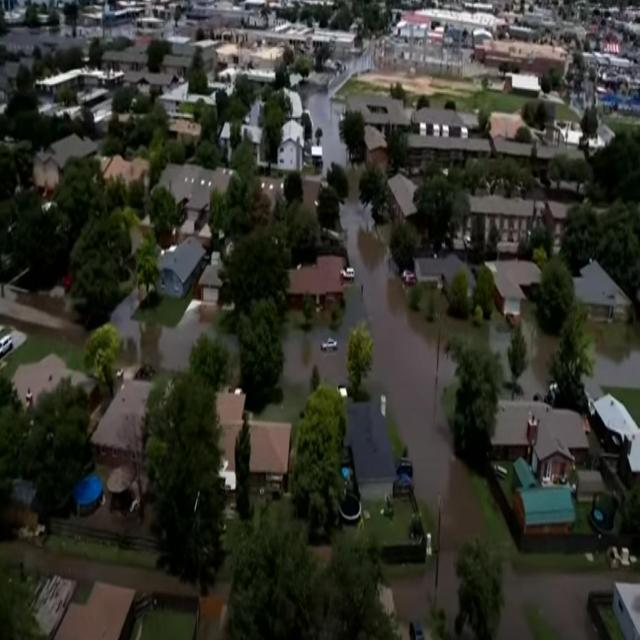flood: (283, 169, 511, 551), (111, 292, 199, 370), (587, 320, 640, 395), (303, 85, 348, 167), (523, 303, 558, 398)
house: (488, 392, 592, 478), (89, 372, 153, 475), (56, 576, 136, 640), (285, 254, 351, 326), (574, 258, 633, 330), (488, 258, 546, 330), (512, 482, 578, 543), (472, 193, 536, 255), (414, 252, 475, 311), (213, 390, 248, 492), (160, 234, 204, 309), (248, 419, 293, 492), (388, 173, 420, 239), (613, 577, 640, 640), (276, 118, 306, 172), (201, 261, 223, 308)
